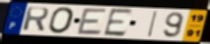9: (162, 12, 185, 39)
E: (102, 8, 135, 38), (76, 7, 109, 36)
I: (146, 10, 160, 38)
O: (48, 6, 76, 35)
R: (21, 6, 50, 33)
